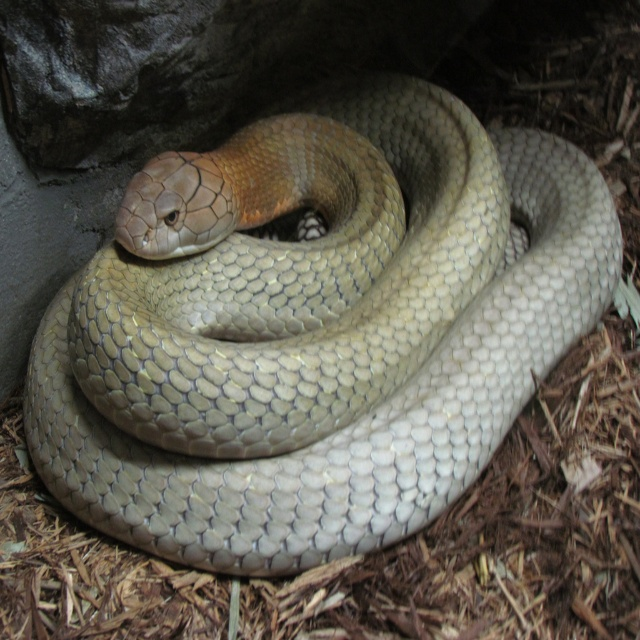Snake: (22, 70, 623, 578)
